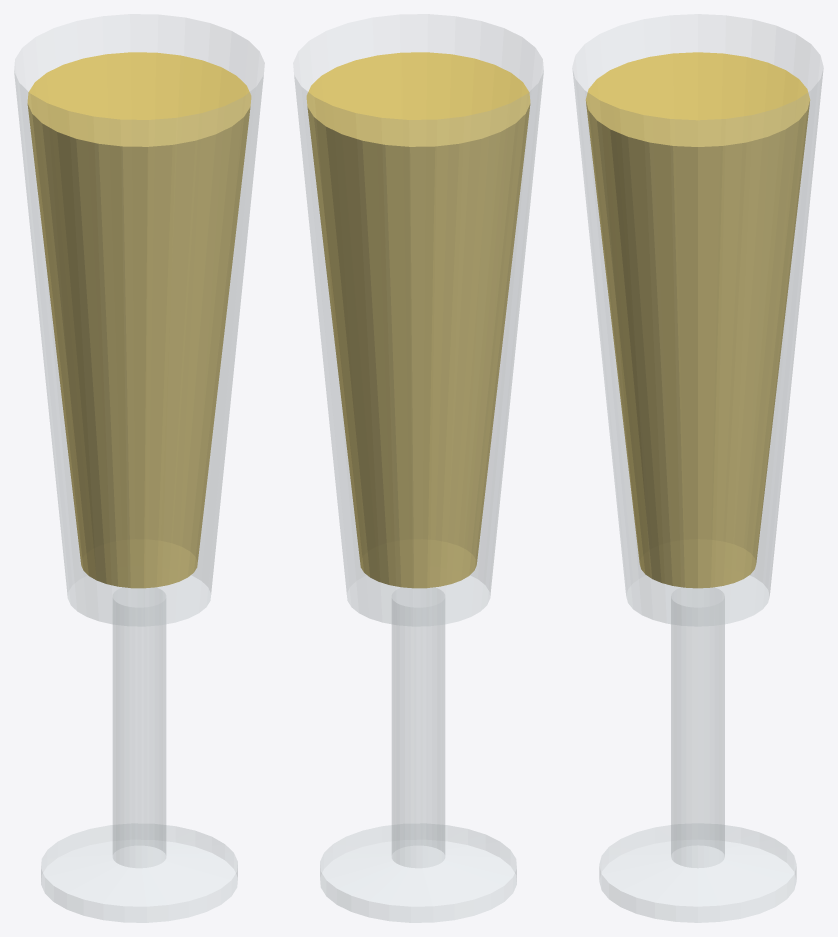
Rendered from glass_flute.glb.
3 renders of one model, left to right at view 1: azimuth 30°, elevation 25°; view 2: azimuth 150°, elevation 25°; view 3: azimuth 270°, elevation 25°, orthographic.
Visible parts, largest first — view 1: GlassBody, LIQUID_SHAPE, Foot, Stem; view 2: GlassBody, LIQUID_SHAPE, Foot, Stem; view 3: GlassBody, LIQUID_SHAPE, Foot, Stem.
Boxes of the visible parts, x1,y1,x2,y2 form: GlassBody: [14, 14, 264, 626]; LIQUID_SHAPE: [27, 52, 251, 588]; Foot: [41, 823, 237, 922]; Stem: [113, 598, 165, 867]; GlassBody: [293, 14, 543, 626]; LIQUID_SHAPE: [306, 52, 530, 588]; Foot: [320, 823, 516, 922]; Stem: [392, 598, 444, 867]; GlassBody: [572, 14, 823, 626]; LIQUID_SHAPE: [585, 52, 810, 588]; Foot: [599, 823, 796, 922]; Stem: [671, 597, 724, 867].
Size of the model in its own units: 0.056 by 0.2 by 0.056.
